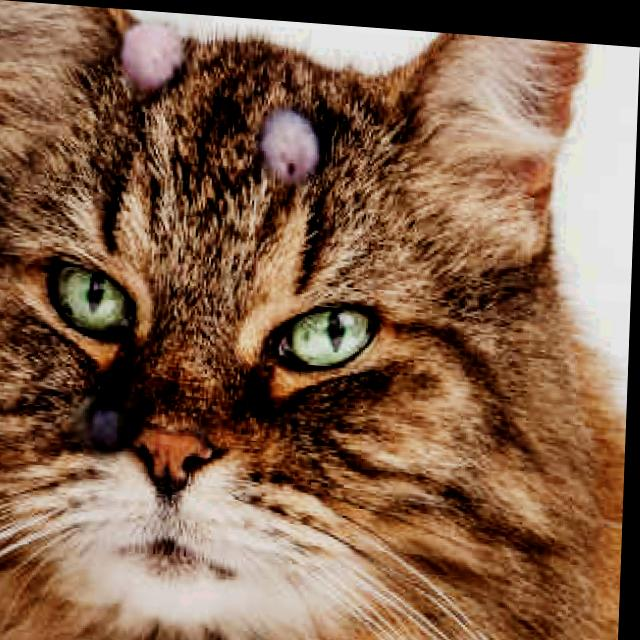lump_and_bump: (258, 110, 320, 185), (120, 22, 184, 90), (90, 405, 123, 448)
